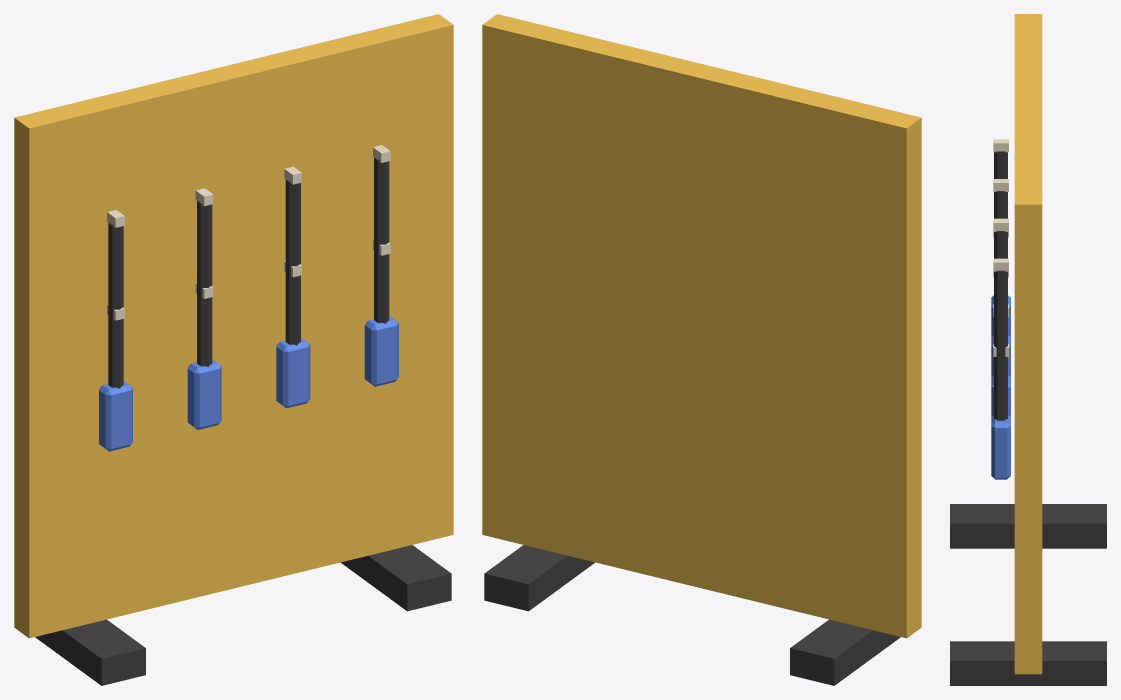
3 views of the same model, side by side, from view 1: azimuth 30°, elevation 25°; view 2: azimuth 150°, elevation 25°; view 3: azimuth 270°, elevation 25° (orthographic). The views are drawn at different scales.
Parts seen in each view (by area): view 1: Panel, Panel foot.001, Panel foot, Tool shank.002, Tool shank.001, Tool shank, Tool shank.003, Tool grip.001, Tool grip.002, Tool grip.003, Tool grip; view 2: Panel, Panel foot.001, Panel foot; view 3: Panel, Panel foot.001, Panel foot, Tool shank.003, Tool grip.003, Tool shank, Tool shank.001, Tool shank.002.
Boxes of the visible parts, x1,y1,x2,y2 form: Panel: (14,14,453,638); Panel foot.001: (340,545,451,611); Panel foot: (35,619,145,685); Tool shank.002: (285,179,300,345); Tool shank.001: (197,200,212,367); Tool shank: (108,222,123,388); Tool shank.003: (374,157,389,323); Tool grip.001: (187,359,221,429); Tool grip.002: (276,338,310,408); Tool grip.003: (364,316,398,386); Tool grip: (99,381,132,451); Panel: (482,14,921,638); Panel foot.001: (484,545,595,611); Panel foot: (790,619,900,685); Panel: (1014,14,1042,674); Panel foot.001: (950,641,1106,685); Panel foot: (950,504,1106,548); Tool shank.003: (994,270,1007,420); Tool grip.003: (991,415,1010,479); Tool shank: (994,151,1007,178); Tool shank.001: (994,191,1007,218); Tool shank.002: (994,231,1007,258).
Size of the model in its own units: 115 by 140 by 40.
